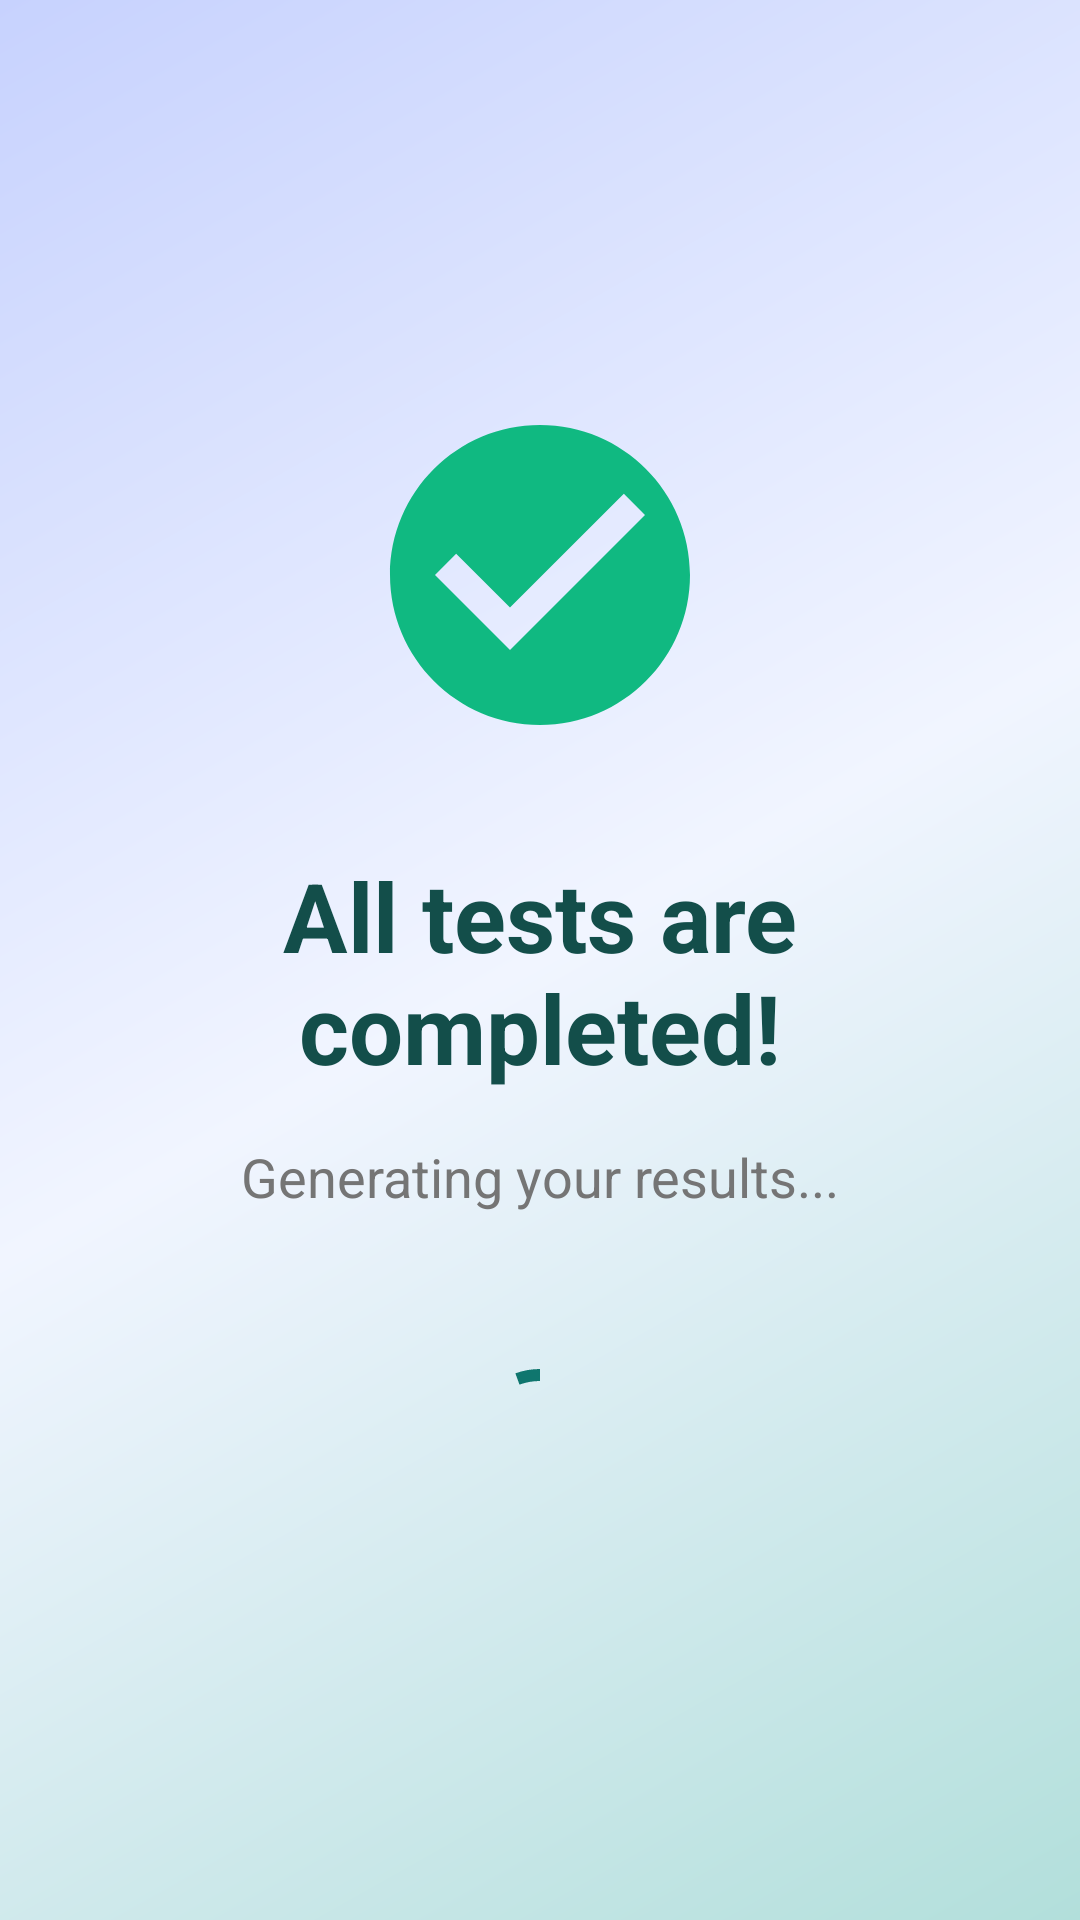

Named icons in this screenshot (1080px×1920px) and their centers, [x,y]:
Test completed successfully: [540,575]
